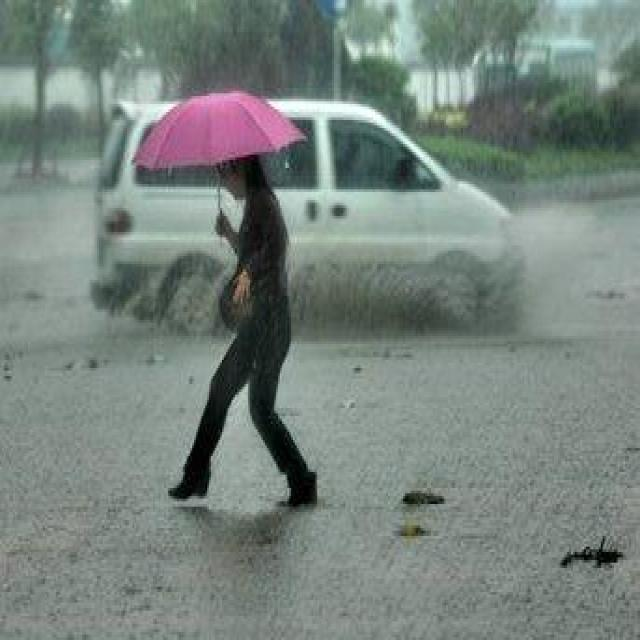car: (86, 96, 520, 328)
